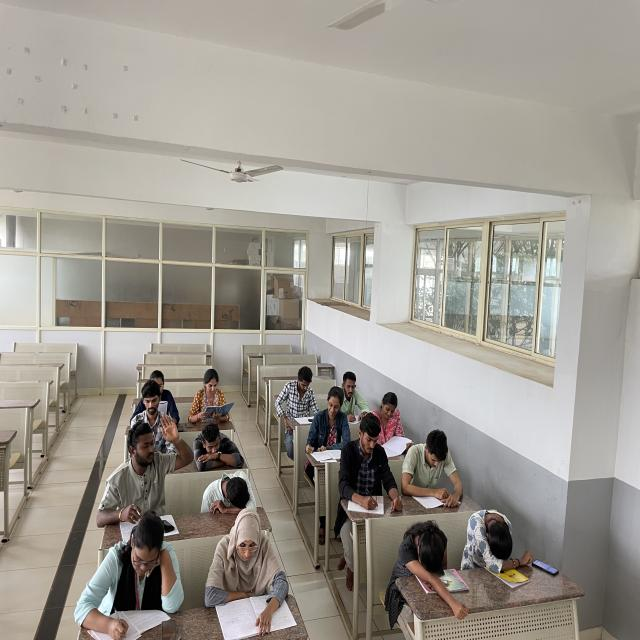Hand Rising: (90, 412, 186, 510)
Reading: (202, 510, 293, 628), (408, 413, 473, 513), (191, 358, 240, 432), (374, 379, 418, 458), (276, 358, 318, 420)
Sleeping: (390, 498, 458, 602), (184, 458, 266, 520), (456, 496, 521, 573)
Writing: (75, 511, 184, 638), (341, 405, 388, 545), (306, 388, 346, 463), (334, 355, 372, 425)
